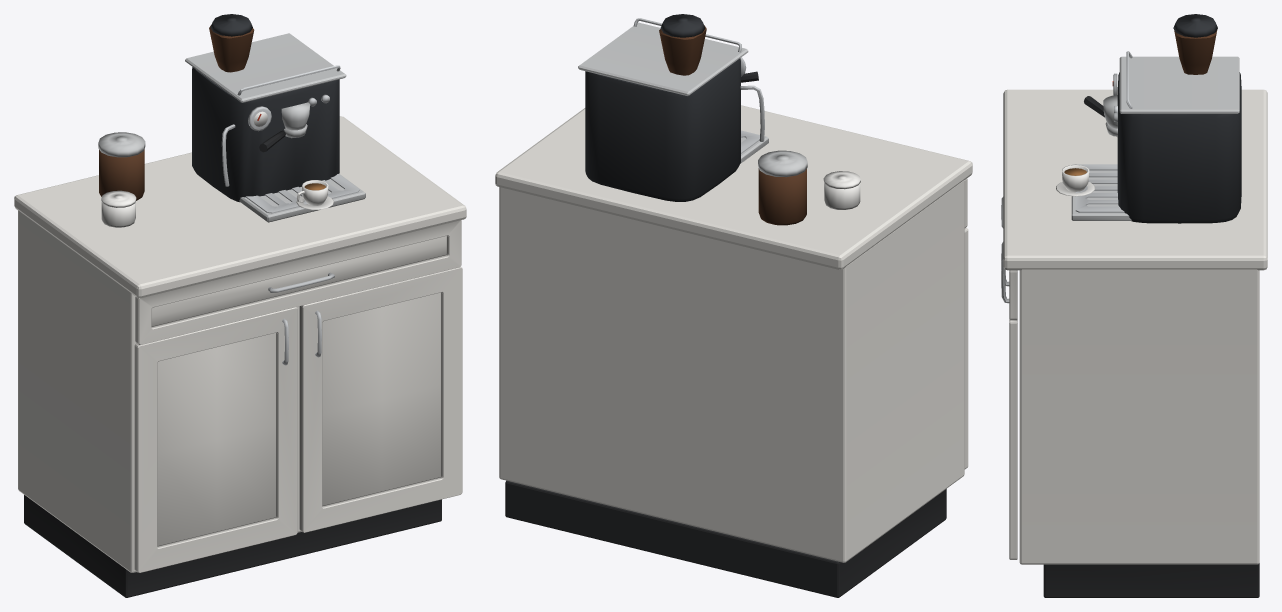
Rendered from coffeeMachine.glb.
The picture shows the model from 3 angles, left to right: view 1: azimuth 30°, elevation 25°; view 2: azimuth 150°, elevation 25°; view 3: azimuth 270°, elevation 25°; orthographic projection. The views are drawn at different scales.
Parts seen in each view (by area): view 1: body, cup; view 2: body; view 3: body, cup.
Boxes of the visible parts, x1=… form: body: x1=14, y1=14, x2=466, y2=597; cup: x1=296, y1=180, x2=333, y2=209; body: x1=495, y1=14, x2=972, y2=597; body: x1=1001, y1=14, x2=1267, y2=597; cup: x1=1056, y1=164, x2=1094, y2=196.
Size of the model in its own units: 1 by 1.4 by 0.6657.
